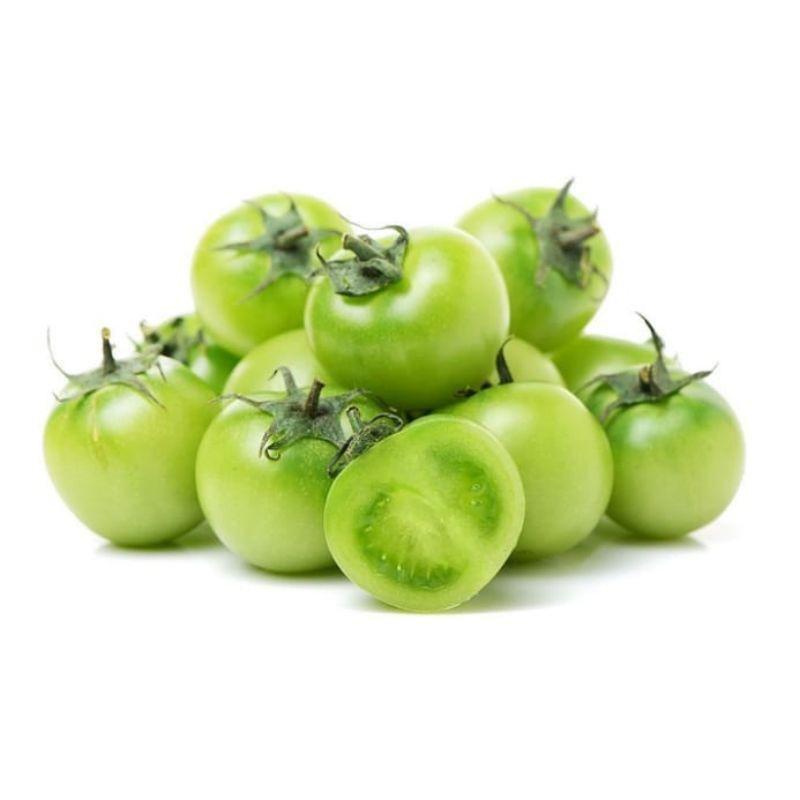Mengkal: (35, 347, 219, 555), (310, 225, 519, 396), (198, 400, 397, 575), (594, 366, 762, 544), (184, 186, 355, 338), (471, 376, 597, 563), (481, 189, 623, 345)
Muda: (332, 428, 528, 617)
